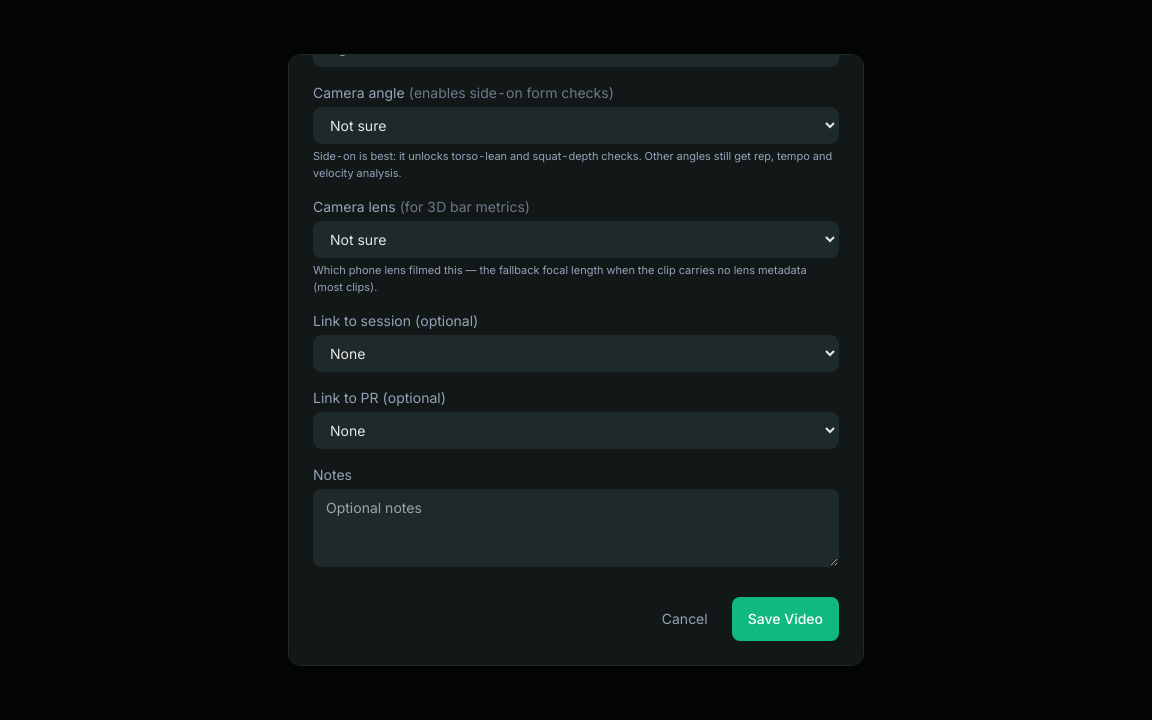
Test case: LiftVideoForm › shows an inline error when submitting without selecting a file
(page scrolled)
What coordinates should you click on to do the following:
click the button "Save Video"
I would click on:
 (785, 619)
Its box is [732,597,839,641].
(page scrolled)
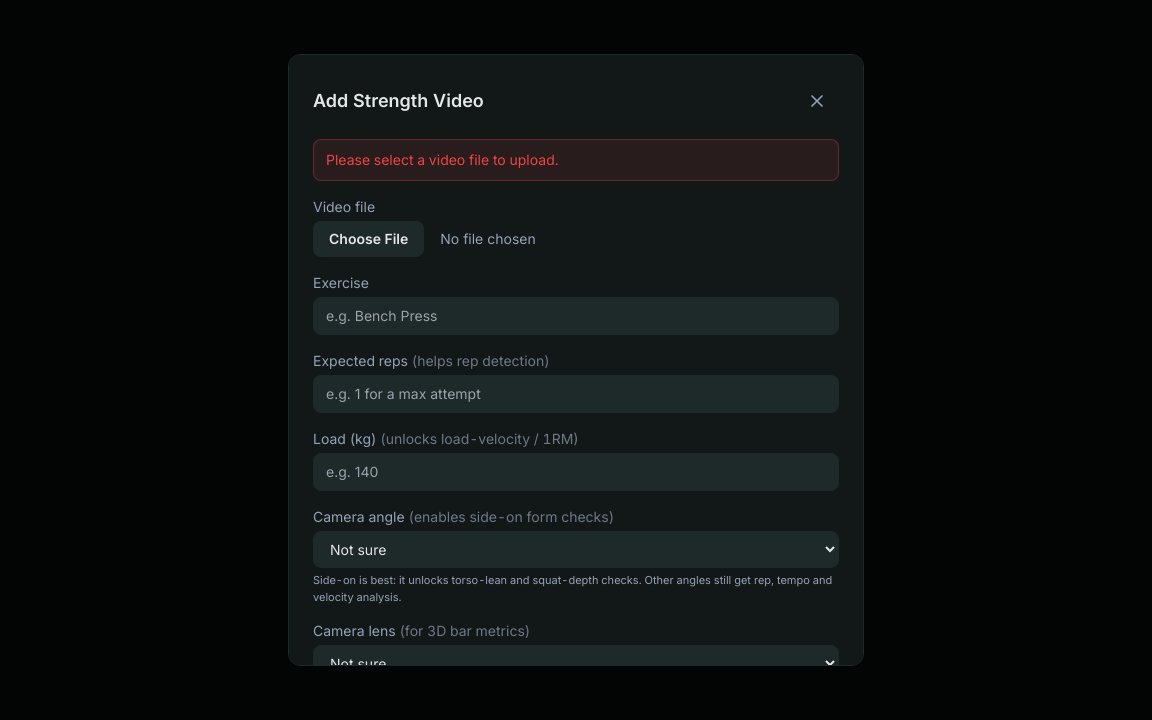
Expected: the message "Please select a video file to upload." is shown, [313,139,839,181]
Expected: the message reads "Please select a video file to upload.", [326,151,558,168]
